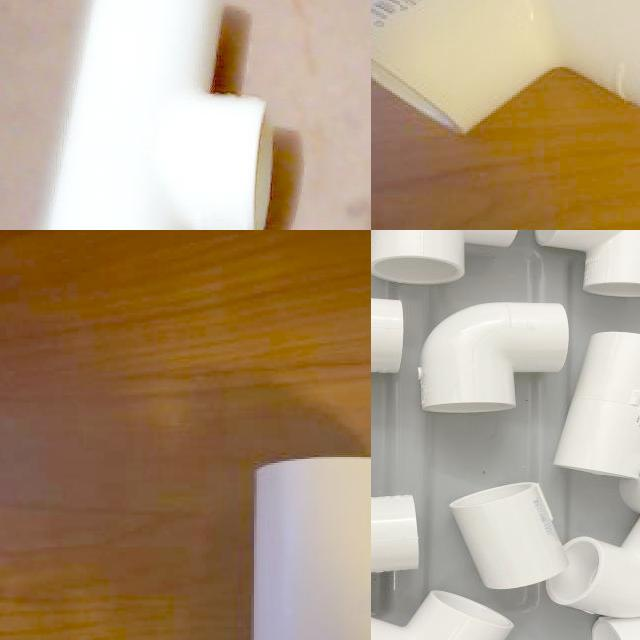L Joint: (420, 303, 572, 418), (371, 230, 519, 287), (371, 591, 515, 640)
T Joint: (40, 0, 275, 230), (250, 457, 371, 640), (552, 332, 640, 479), (535, 230, 640, 301)
